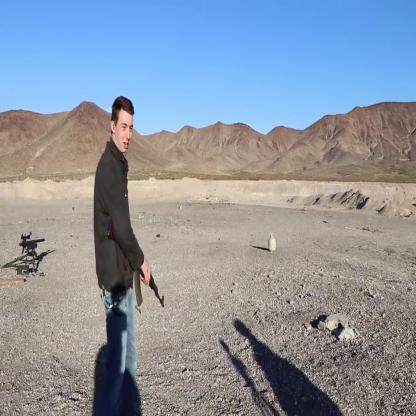long weapon: (107, 214, 173, 314), (17, 219, 47, 266)
